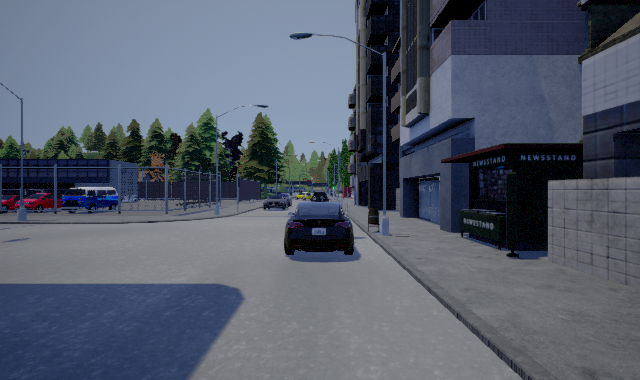vehicle: (284, 190, 354, 255), (57, 187, 118, 210), (23, 193, 54, 210), (263, 193, 292, 210)
